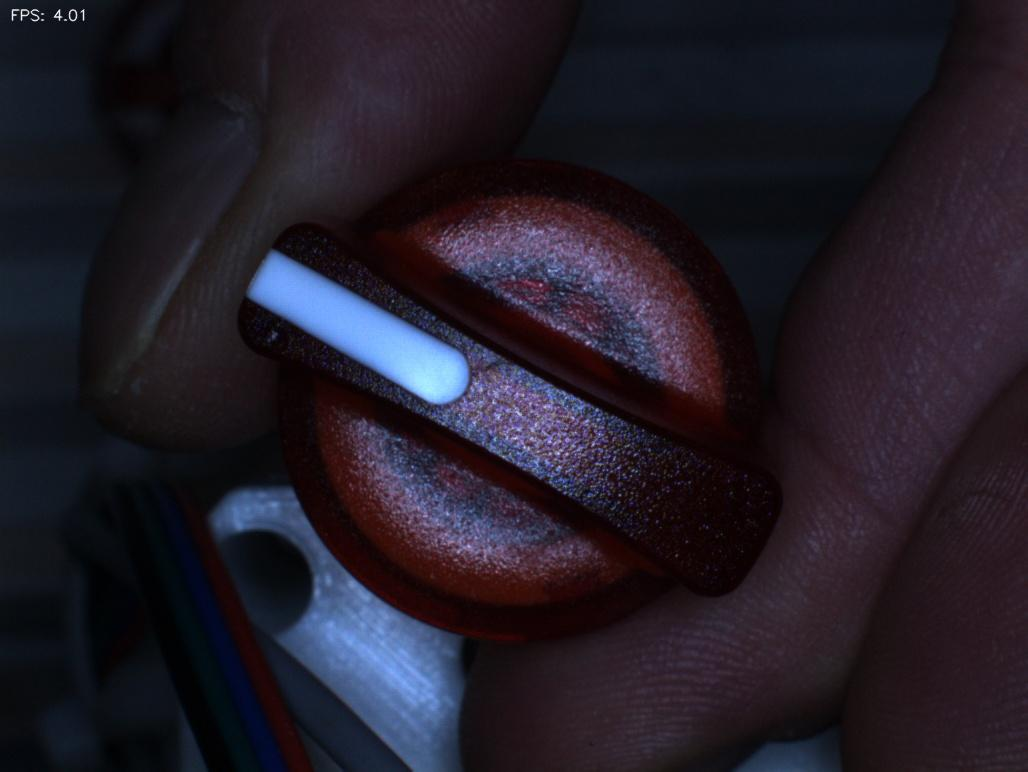Choc: (220, 287, 319, 383)
